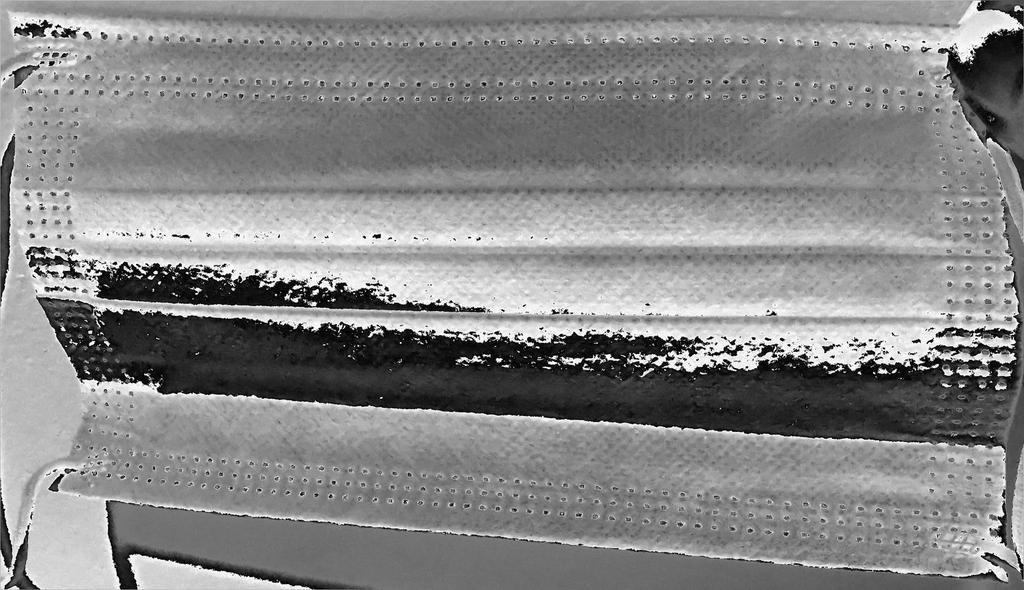High GSM: (84, 94, 938, 458)
